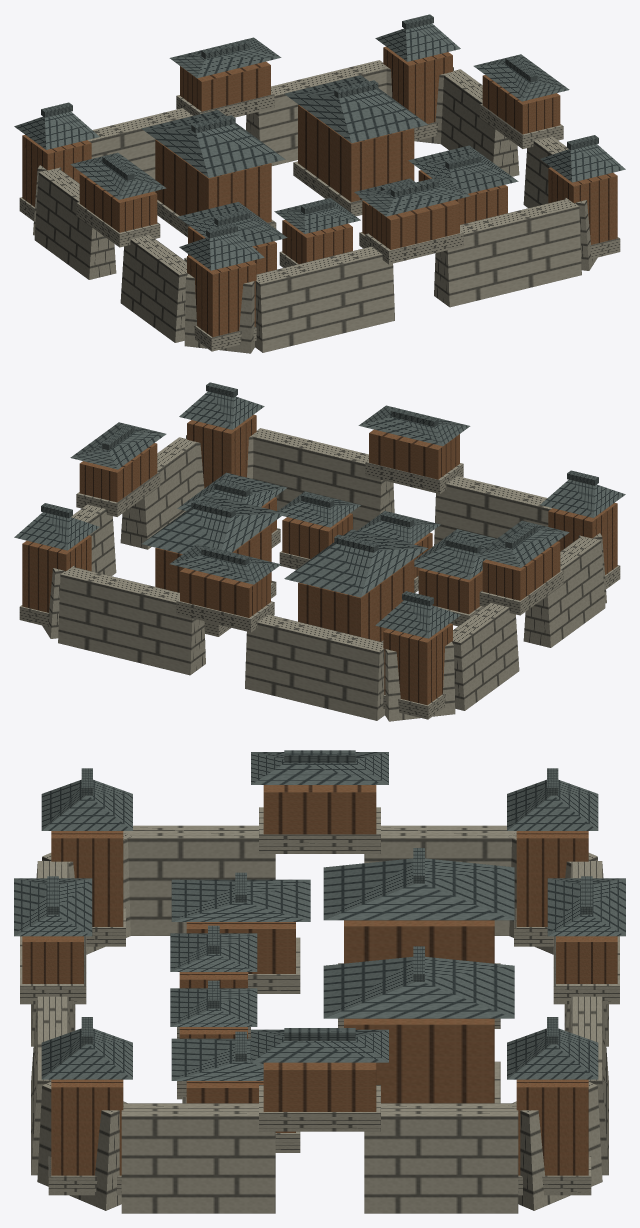
Rendered from city1-lod2.glb.
3 views of the same model, one above another, from view 1: azimuth 30°, elevation 25°; view 2: azimuth 150°, elevation 25°; view 3: azimuth 270°, elevation 25° (orthographic). The views are drawn at different scales.
Bounding box in the file's own units: 2.15 × 0.561 × 1.79.
1 material, 1 textured.
